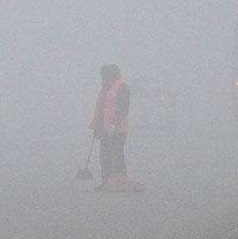person: (87, 62, 145, 193)
